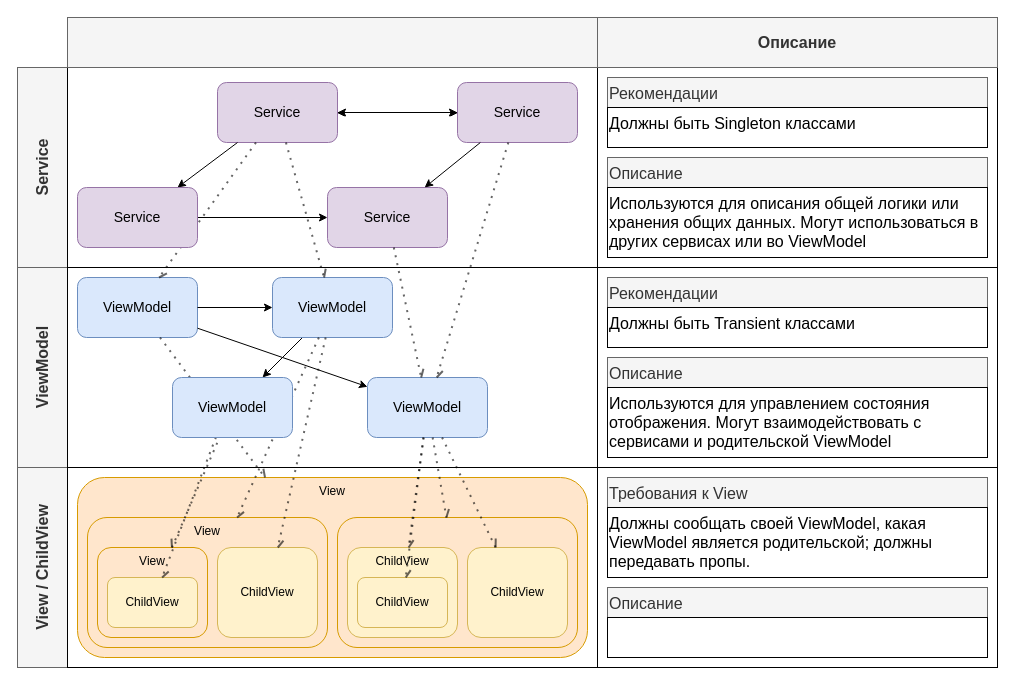
Some shapes in this 1015 by 685 pixel diagram are drawn without their labels. Each missing label, with the box of its shape:
View4: (336, 516, 578, 648)
Взаимодействие с другими сущностями: (66, 16, 598, 68)
Используются исключительно для отображения: (606, 616, 988, 658)
